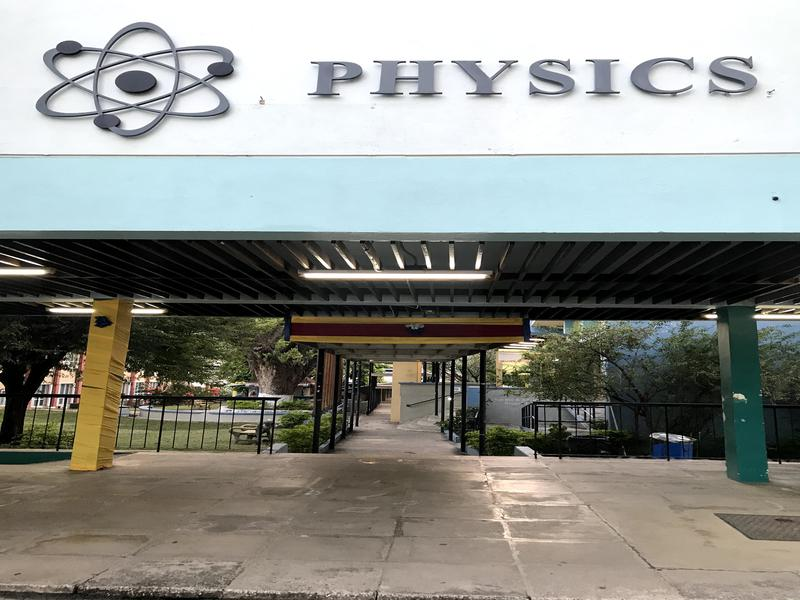18.0053657_-76.7491452_physicssign: (20, 9, 774, 155)
